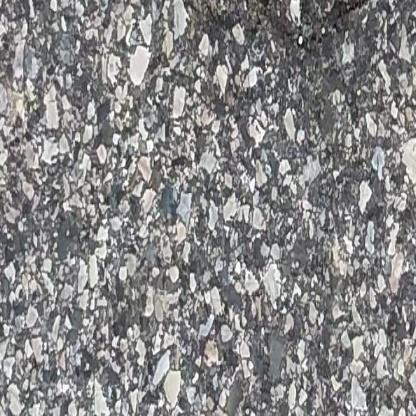Cracks: (166, 0, 374, 58)
